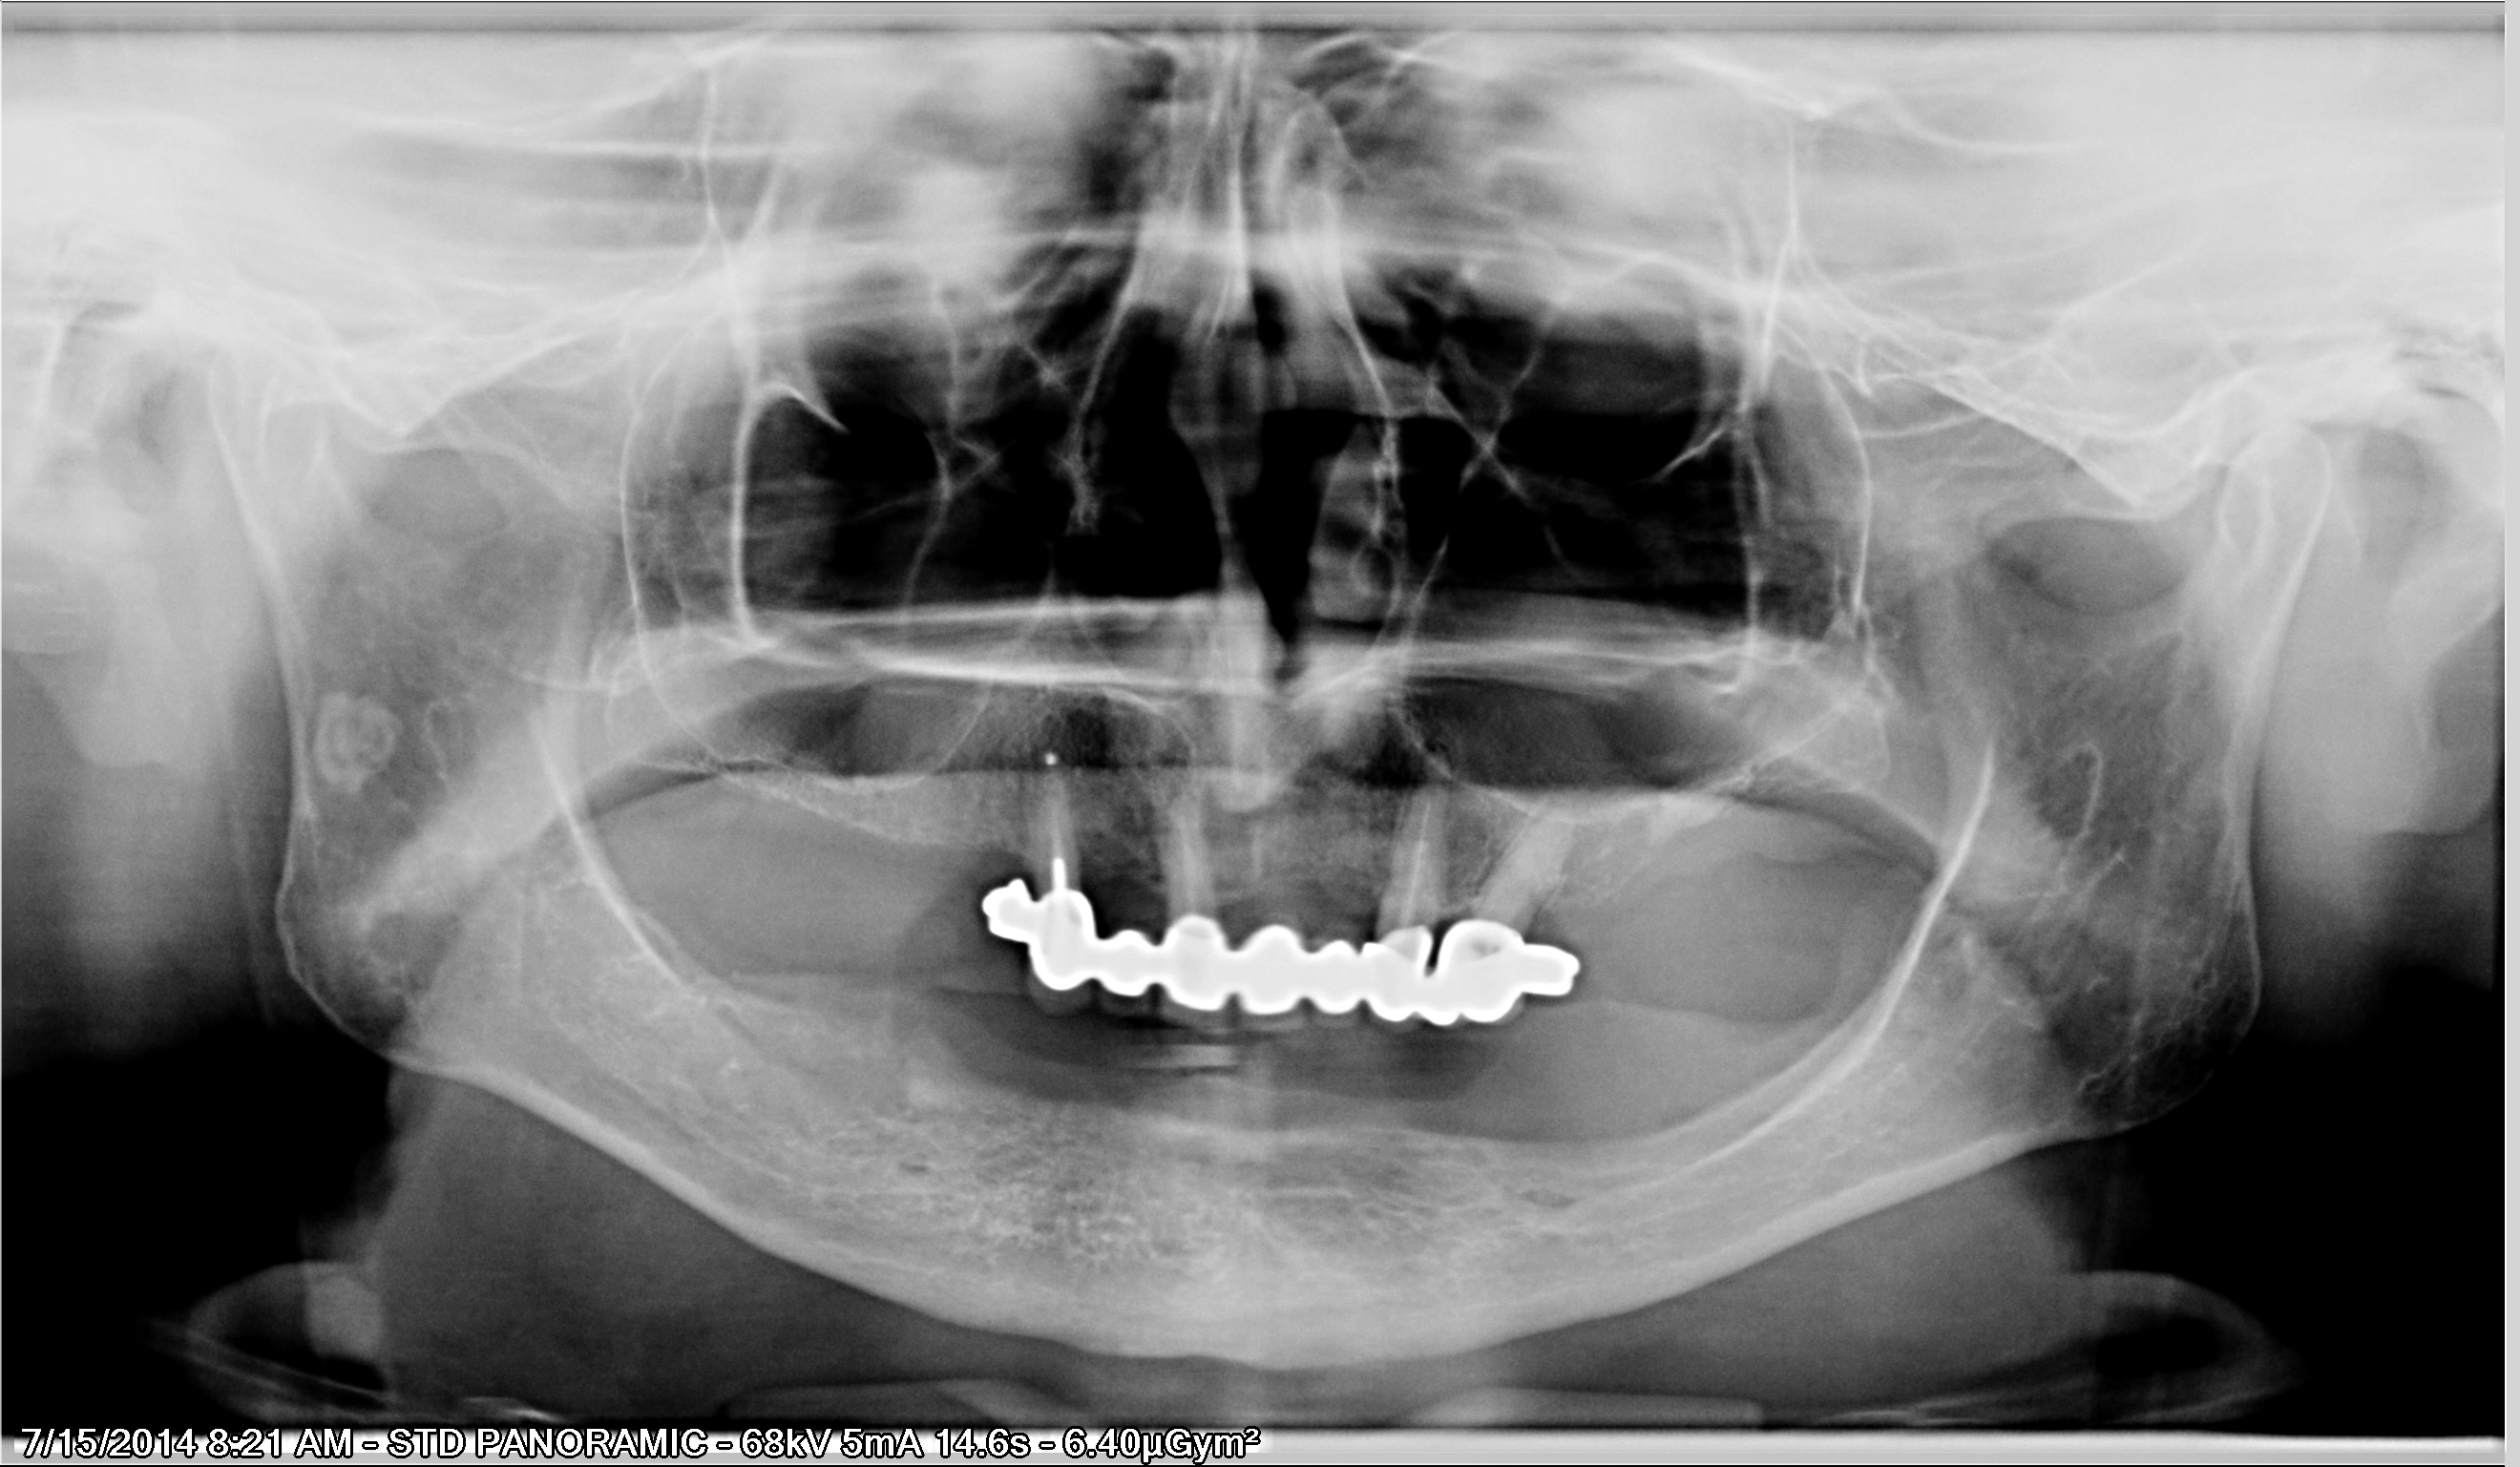END: (650, 300, 2108, 1233), (559, 325, 1766, 1231), (484, 299, 1565, 1175)
PRR: (129, 346, 1773, 1392)
